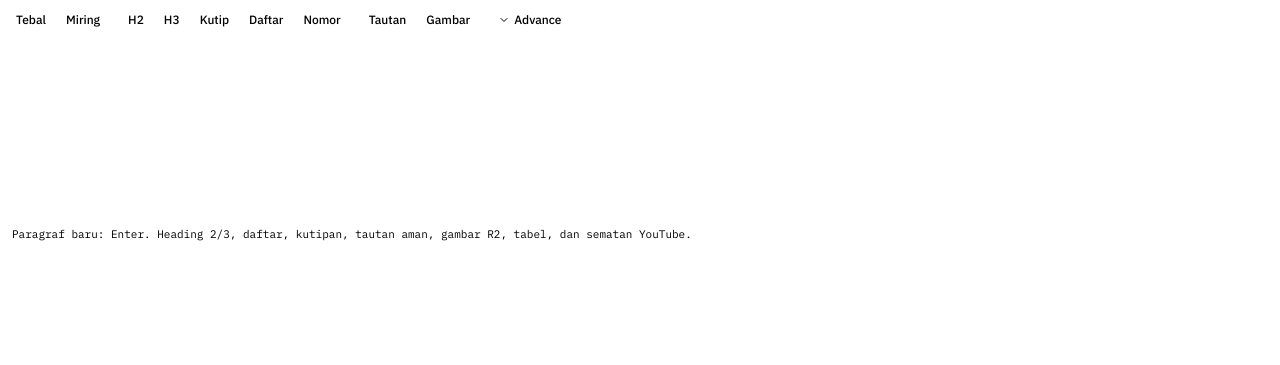
it: RichTextEditor › hanya membuka satu panel semat dalam satu waktu
This screenshot has width=1280, height=365.
Click the button "Advance".
click(530, 20)  # box [490,8,570,32]
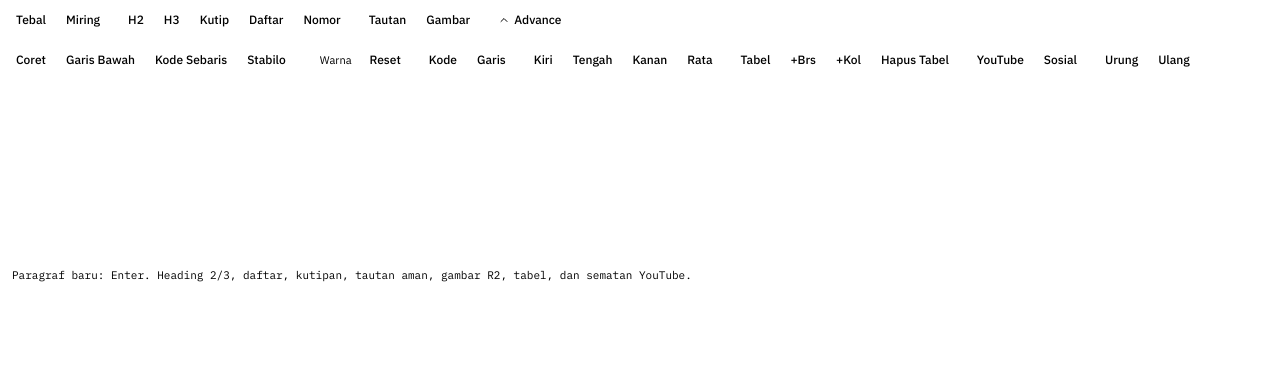
Click the button with aria-label "Sematan YouTube".
click(1000, 60)  # box [969,48,1032,72]
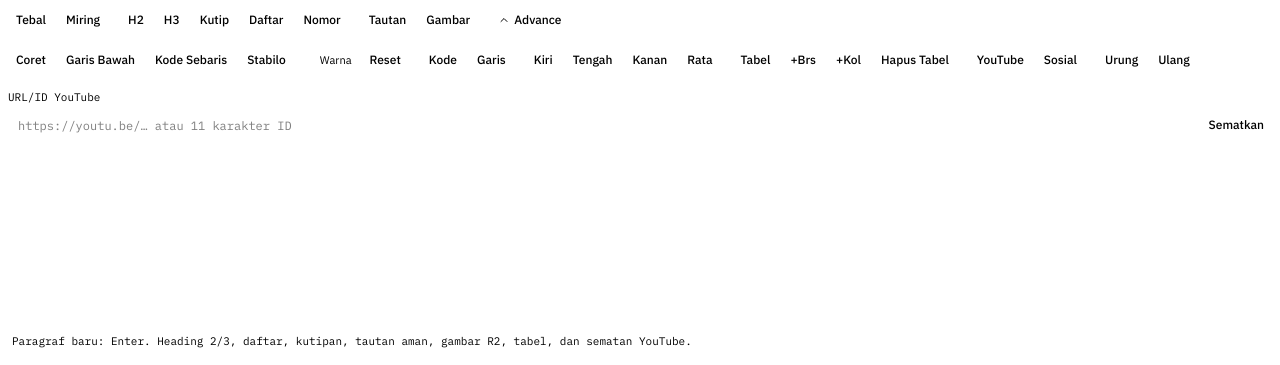
expect the field labelled "URL/ID YouTube" is shown: met, box [8,111,1192,139]
Click the button with aria-label "Sematan sosial".
click(1060, 60)  # box [1036,48,1085,72]
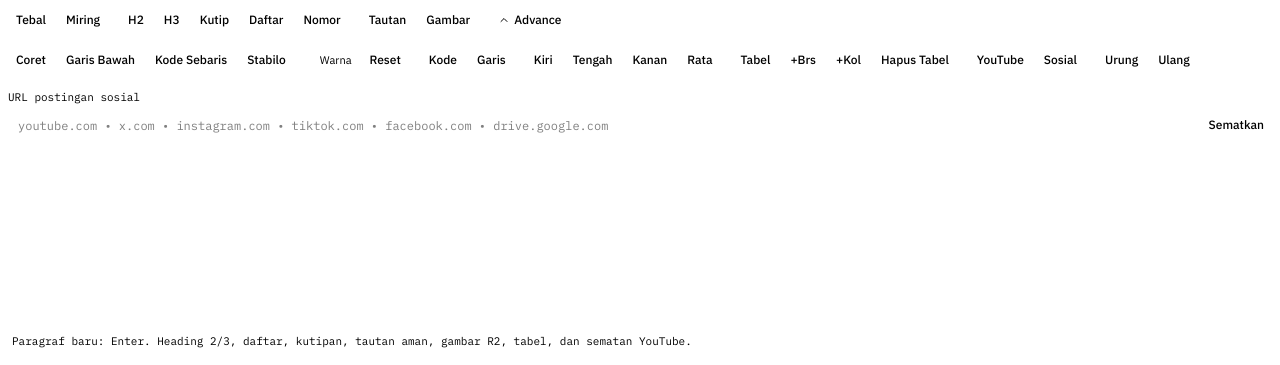
expect the field labelled "URL postingan sosial" is shown: met, box [8,111,1192,139]
expect the label labelled "URL/ID YouTube" is gone: met
